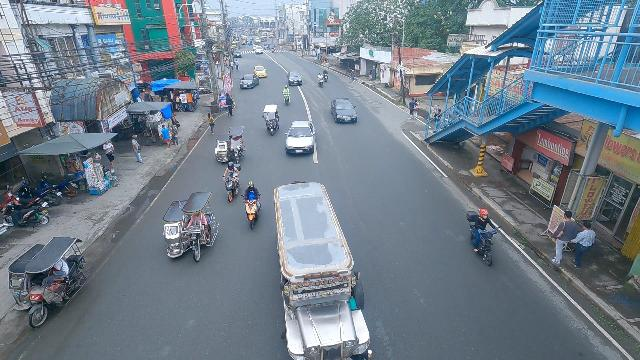car: (283, 121, 313, 154), (331, 98, 359, 126), (240, 73, 259, 89), (288, 71, 303, 86), (253, 65, 267, 78), (233, 48, 242, 58), (255, 47, 264, 55)
jeepney: (271, 180, 376, 360)
motorcycle: (466, 207, 501, 267), (240, 181, 262, 229), (221, 161, 243, 202), (283, 86, 291, 106), (317, 72, 324, 87), (322, 69, 328, 82), (271, 47, 274, 53)
